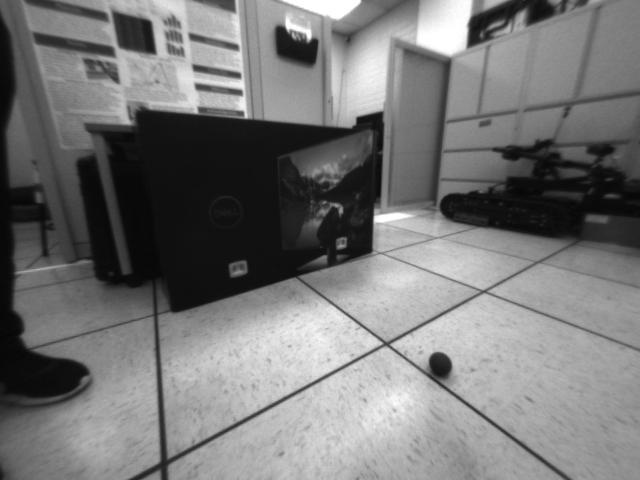dogtoy: (425, 344, 458, 382)
